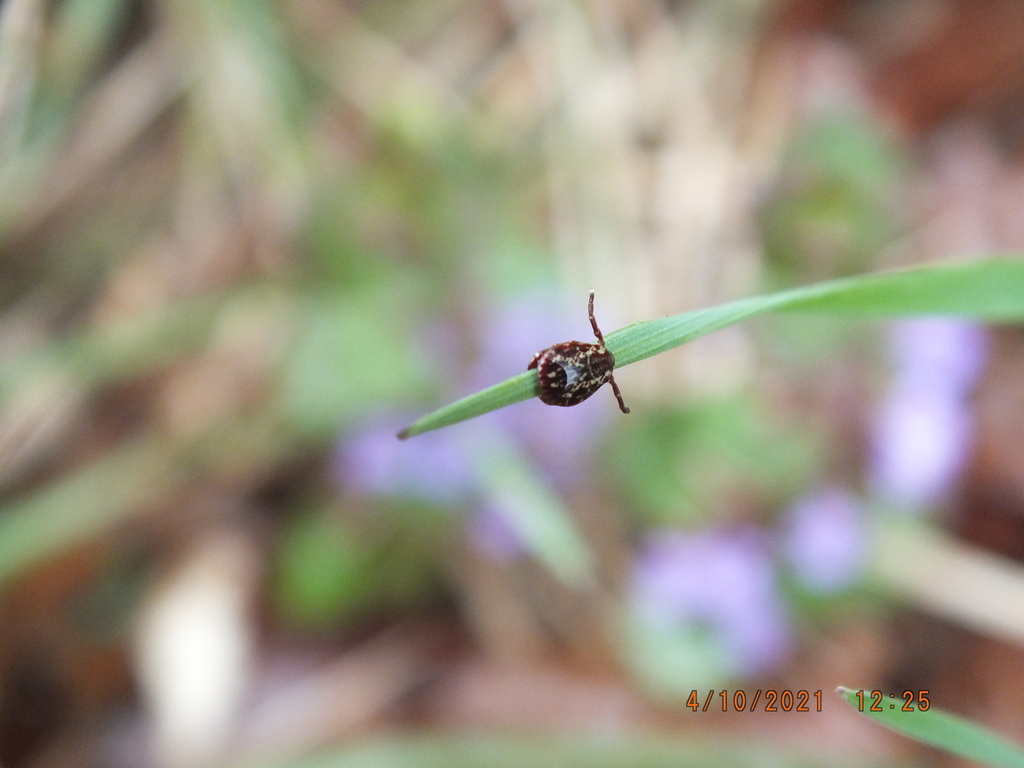garrapata: (526, 290, 642, 422)
